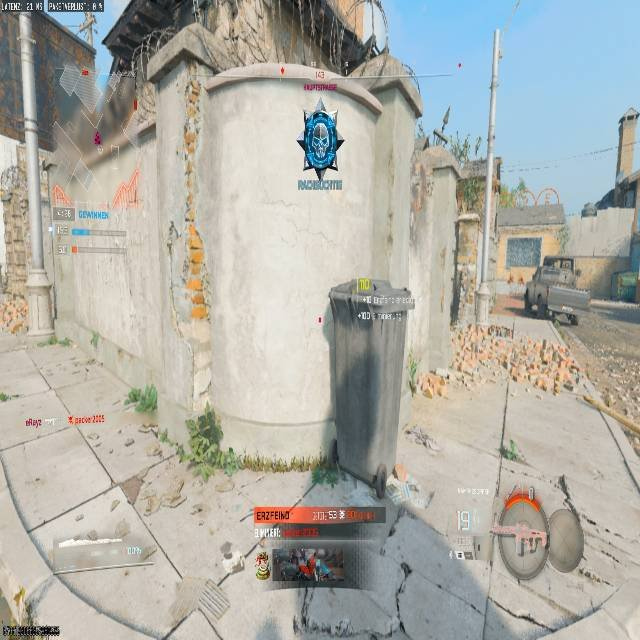player: (296, 100, 343, 177)
